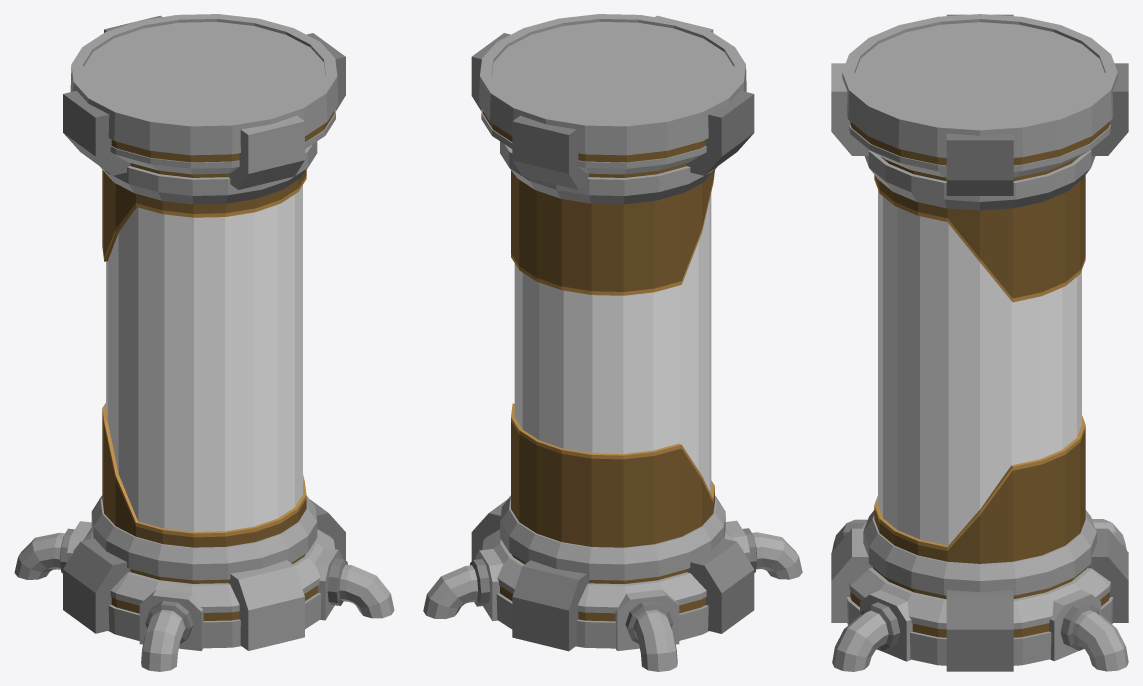
Rendered from Props_Pod_GD.glb.
3 renders of one model, left to right at view 1: azimuth 30°, elevation 25°; view 2: azimuth 150°, elevation 25°; view 3: azimuth 270°, elevation 25°, orthographic. The views are drawn at different scales.
Visible parts, largest first — view 1: Props_Pod; view 2: Props_Pod; view 3: Props_Pod.
Boxes of the visible parts, left/top/right/bottom form: Props_Pod: left=14, top=14, right=394, bottom=671; Props_Pod: left=423, top=14, right=802, bottom=671; Props_Pod: left=831, top=14, right=1128, bottom=671.
Bounding box in the file's own units: 13.57 × 27.09 × 13.58.
